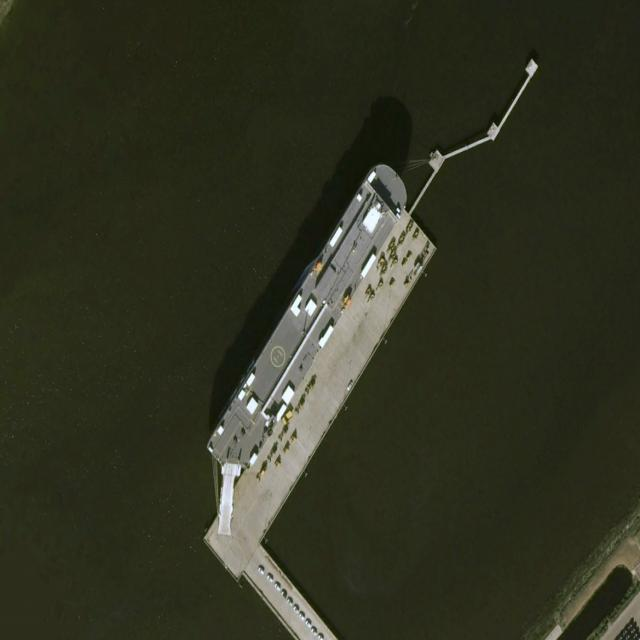RoRo: (203, 152, 414, 488)
